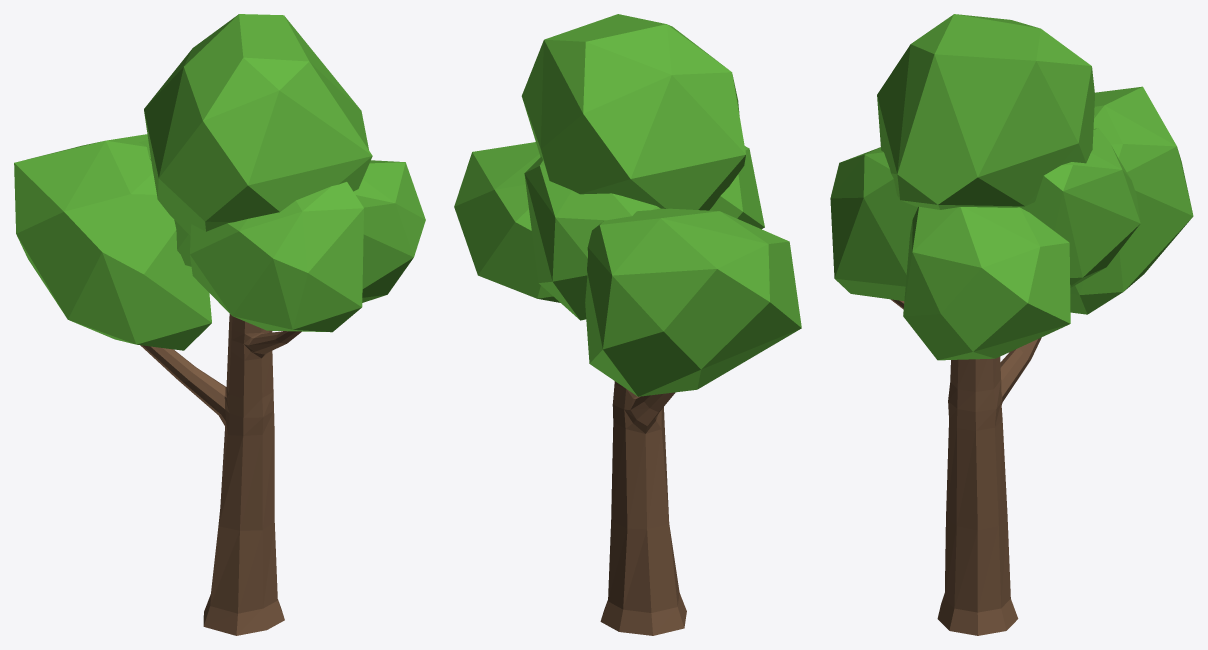
File: Tree-1.fbx
3 renders of one model, left to right at view 1: azimuth 30°, elevation 25°; view 2: azimuth 150°, elevation 25°; view 3: azimuth 270°, elevation 25°, orthographic. The views are drawn at different scales.
Visible parts, largest first — view 1: Herfst_Boom_1; view 2: Herfst_Boom_1; view 3: Herfst_Boom_1.
Boxes of the visible parts, x1,y1,x2,y2 form: Herfst_Boom_1: (14, 14, 425, 635); Herfst_Boom_1: (454, 14, 801, 635); Herfst_Boom_1: (830, 14, 1193, 635).
Bounding box in the file's own units: 1288 × 2080 × 1138.
1 material, 1 textured.
